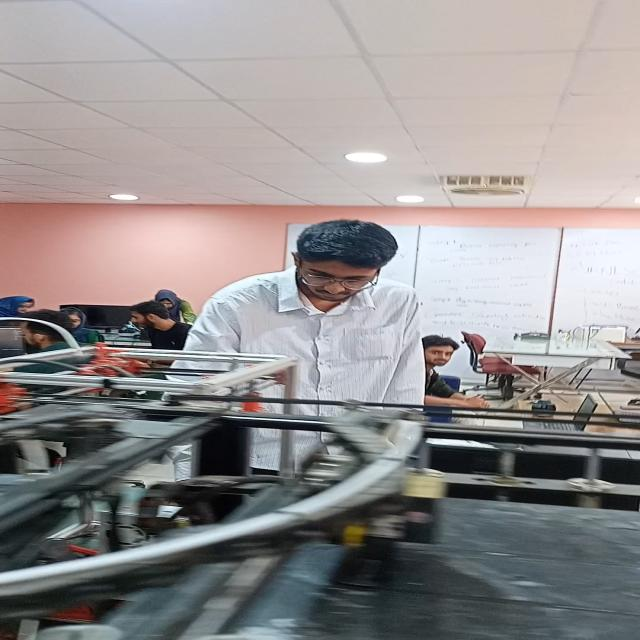dress: (162, 267, 430, 488)
glasses: (292, 268, 387, 294)
